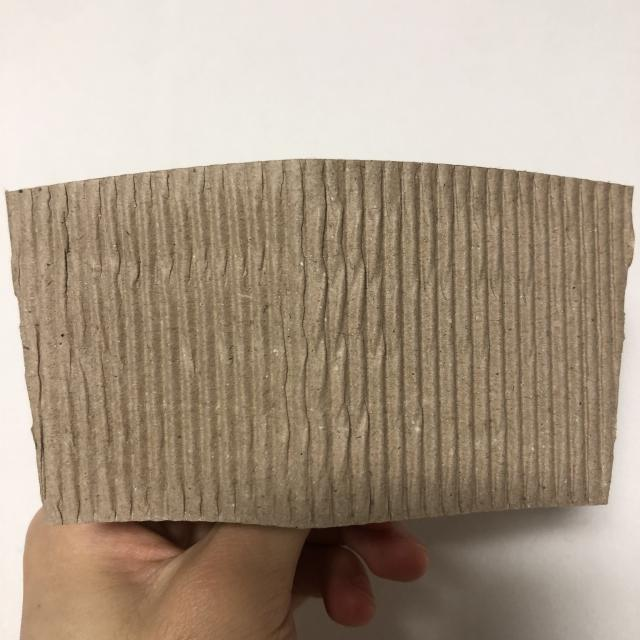Papel: (8, 157, 637, 529)
